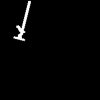double_crochet: (14, 1, 30, 39)
